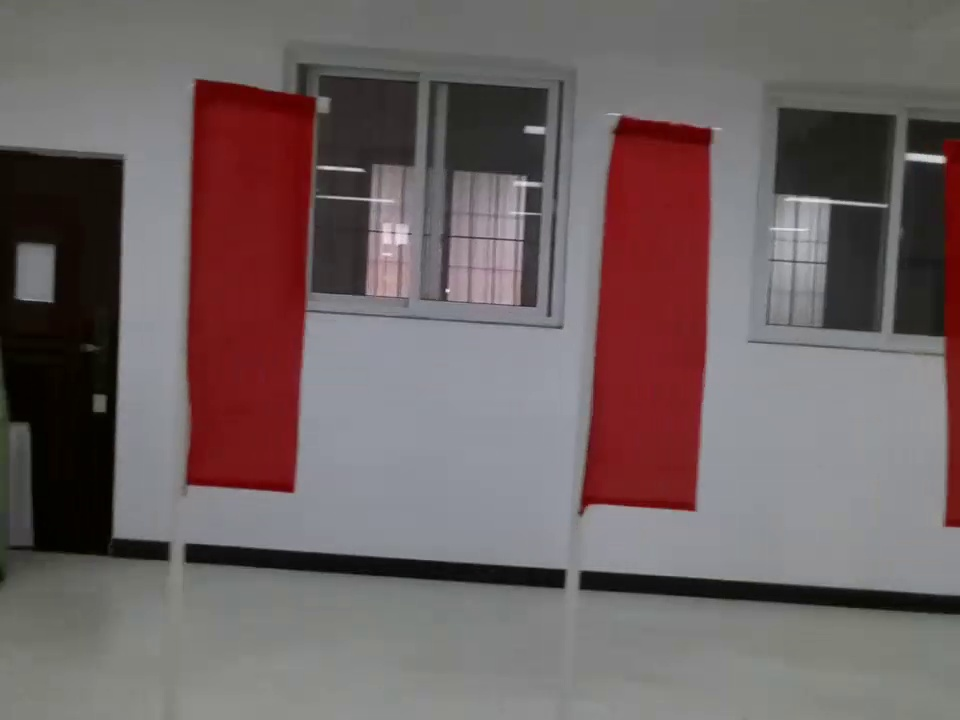qi: (169, 75, 336, 506), (570, 93, 728, 545)
